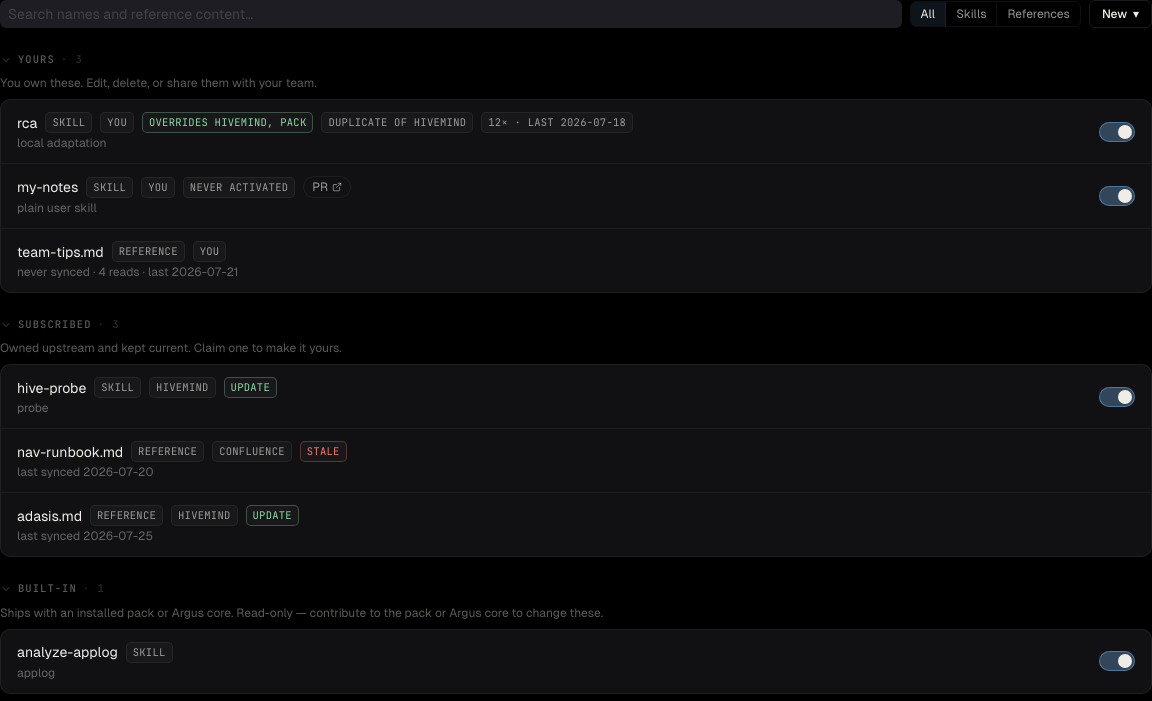
Test: editing affordances › a rejected claim surfaces an error and does NOT open the window
The image size is (1152, 701).
Click the button "adasis.md" at (50, 516), box [17,506,82,526]
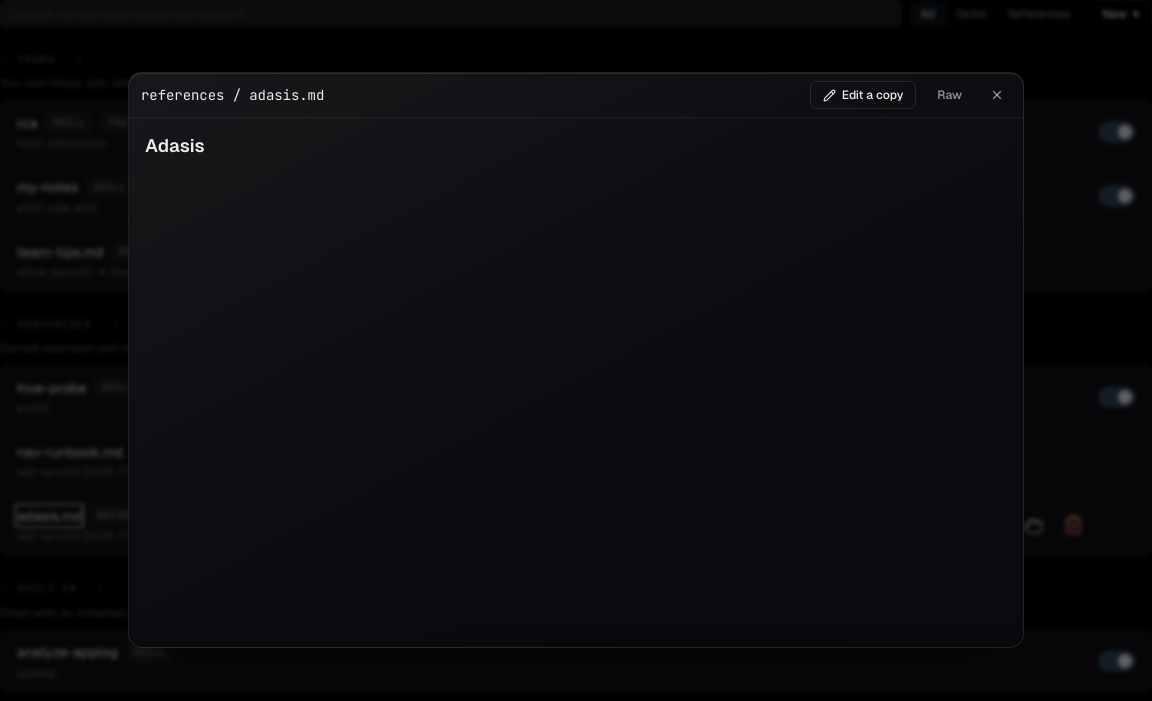
Click the button "Edit a copy" at (863, 95), box [810,81,916,109]
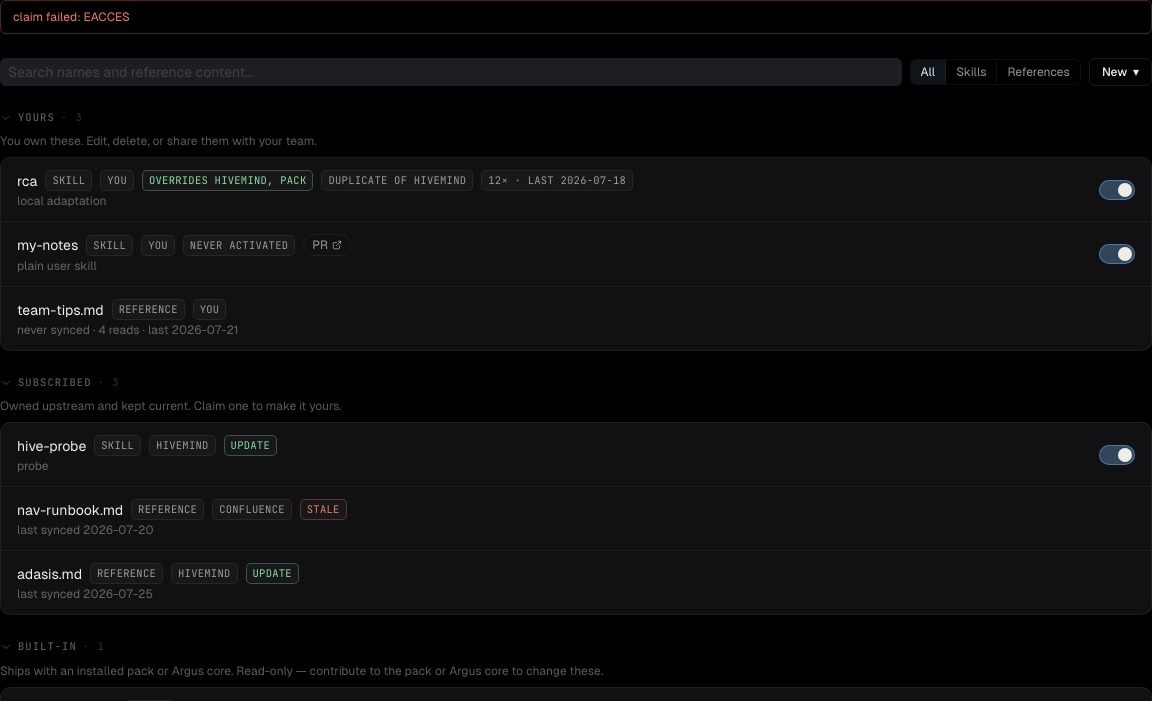
Now the message reads "claim failed: EACCES", box [13,10,130,24]
